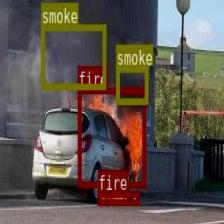fire: (77, 86, 145, 186), (97, 190, 139, 204)
smoke: (41, 23, 106, 88), (116, 65, 147, 103)
